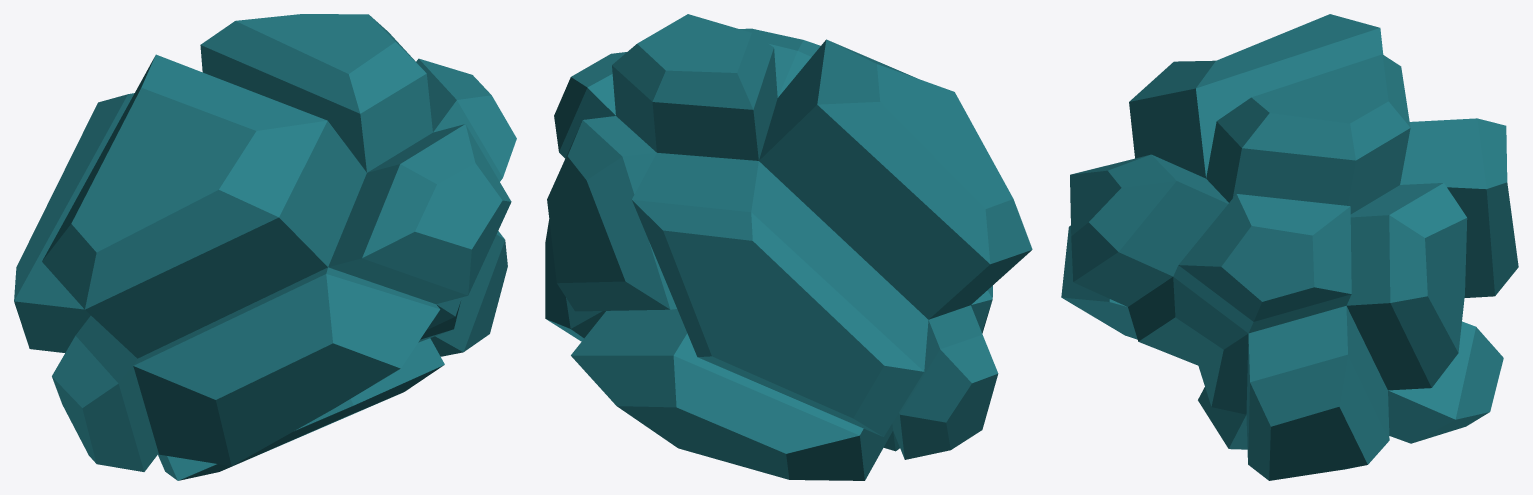
The model's file is IceCrystal.fbx.
The picture shows the model from 3 angles, left to right: view 1: azimuth 30°, elevation 25°; view 2: azimuth 150°, elevation 25°; view 3: azimuth 270°, elevation 25°; orthographic projection. The views are drawn at different scales.
Parts seen in each view (by area): view 1: pSolid2; view 2: pSolid2; view 3: pSolid2.
Boxes of the visible parts, bbox=[...] form: pSolid2: bbox=[14, 14, 516, 480]; pSolid2: bbox=[545, 14, 1032, 480]; pSolid2: bbox=[1061, 14, 1518, 480].
Size of the model in its own units: 52.55 by 43.91 by 45.83.
